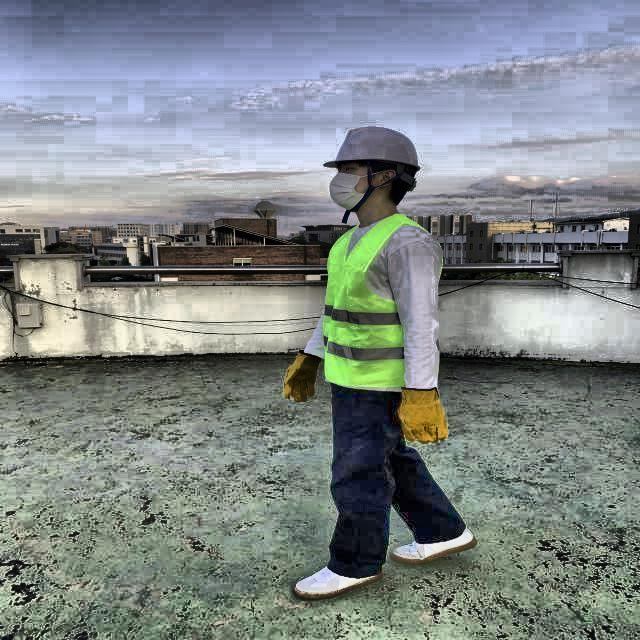safety_jacket: (324, 214, 442, 389)
